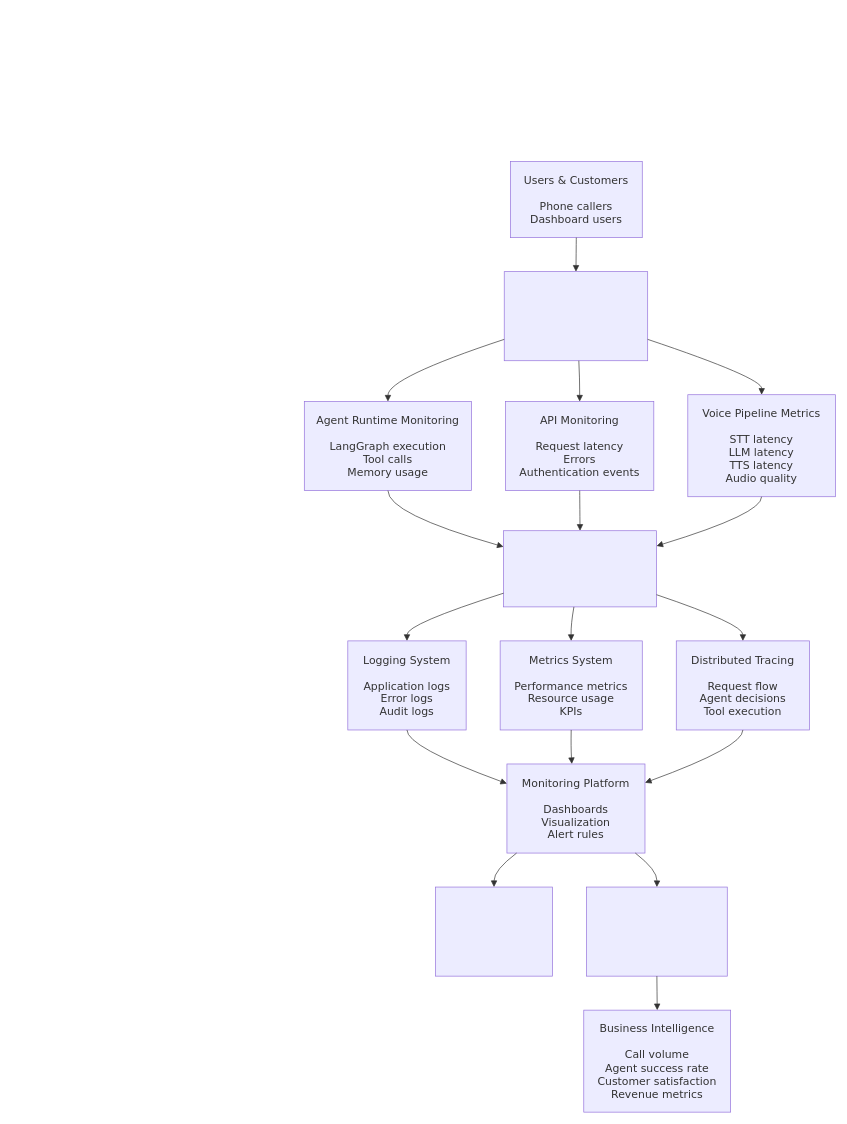
This 847x1124 diagram has some shape labels left out. Here are the shapes that lost their labels. From the top down, the box of each, then its label:
(504, 271, 648, 361): Voice Agent Platform LiveKit FastAPI Agent Workers
(503, 530, 657, 607): Observability Collector Collects telemetry Normalizes events
(435, 886, 552, 976): Alerting System Failures Latency spikes Service issues
(586, 886, 727, 976): Analytics Platform Conversation quality Usage reports Cost analysis
